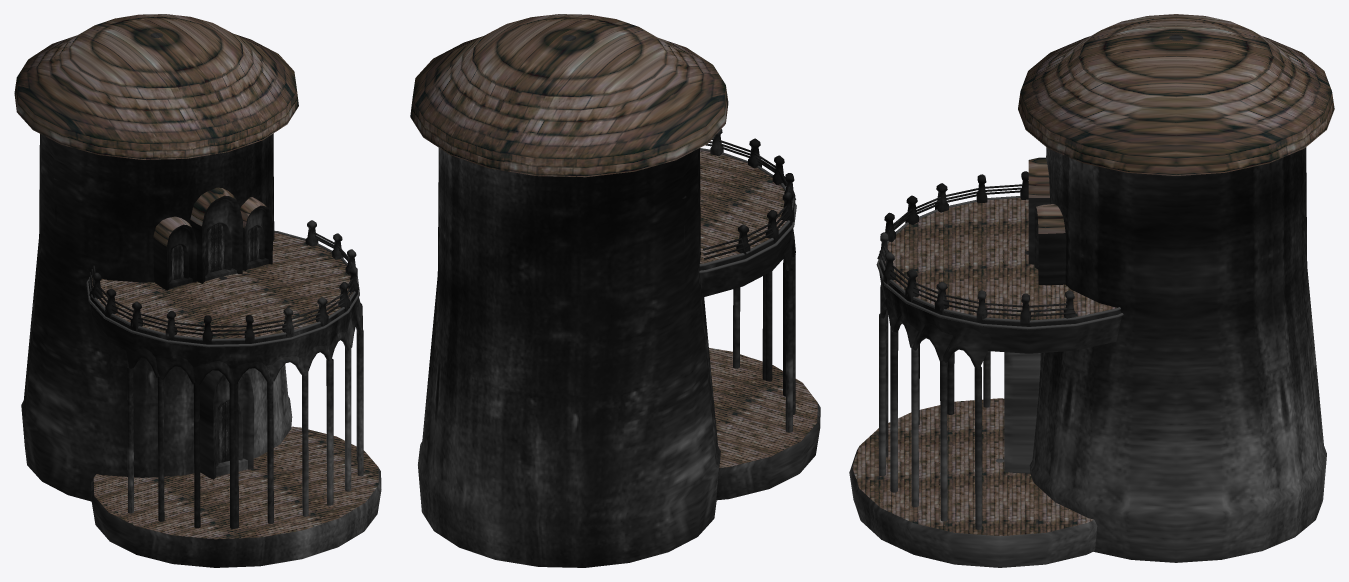
The model's file is diabelny_dwor_p2.FBX.
3 views of the same model, side by side, from view 1: azimuth 30°, elevation 25°; view 2: azimuth 150°, elevation 25°; view 3: azimuth 270°, elevation 25° (orthographic). The views are drawn at different scales.
Visible parts, largest first — view 1: mesh01, Object002; view 2: mesh01, Object002; view 3: mesh01, Object002.
Part boxes in pixels (bbox=[...]): mesh01: bbox=[21, 32, 381, 567]; Object002: bbox=[14, 14, 378, 539]; mesh01: bbox=[418, 35, 820, 567]; Object002: bbox=[410, 14, 817, 467]; mesh01: bbox=[849, 35, 1326, 567]; Object002: bbox=[852, 14, 1334, 536].
Size of the model in its own units: 11.08 by 16.17 by 17.04.
2 materials, 2 textured.
